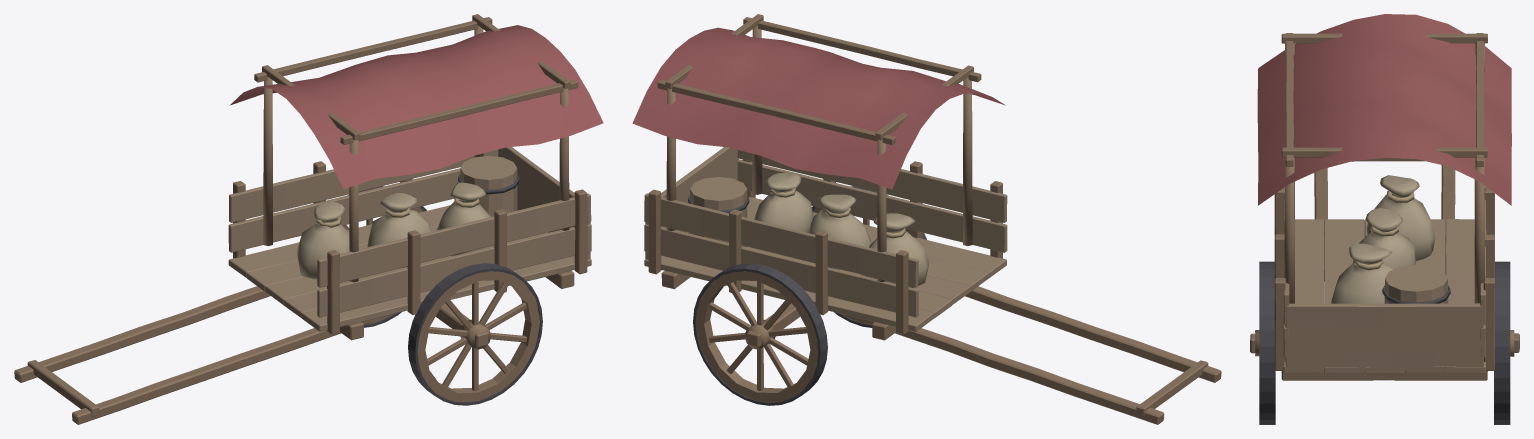
Rendered from cart.glb.
3 views of the same model, side by side, from view 1: azimuth 30°, elevation 25°; view 2: azimuth 150°, elevation 25°; view 3: azimuth 270°, elevation 25° (orthographic). The views are drawn at different scales.
Visible parts, largest first — view 1: cart; view 2: cart; view 3: cart.
Part boxes in pixels (bbox=[...]): cart: bbox=[14, 14, 603, 424]; cart: bbox=[632, 14, 1221, 424]; cart: bbox=[1250, 14, 1519, 424].
Size of the model in its own units: 4.05 by 2.32 by 1.7.
